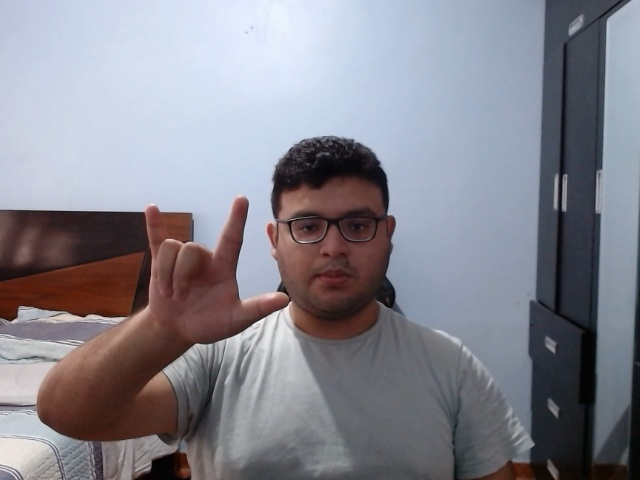I love you: (135, 193, 291, 348)
